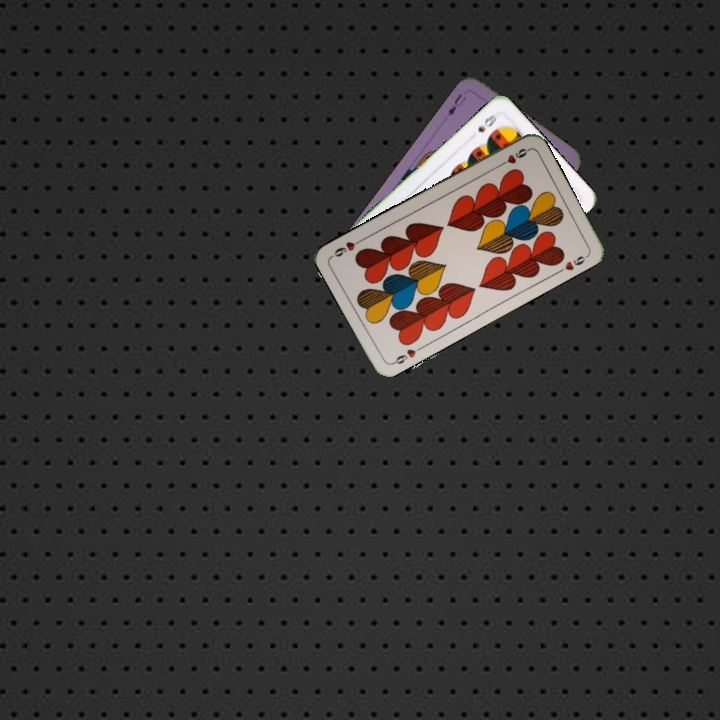EU: (444, 89, 469, 119)
H9: (494, 144, 532, 170), (388, 342, 425, 367)
S8: (473, 110, 499, 135)
